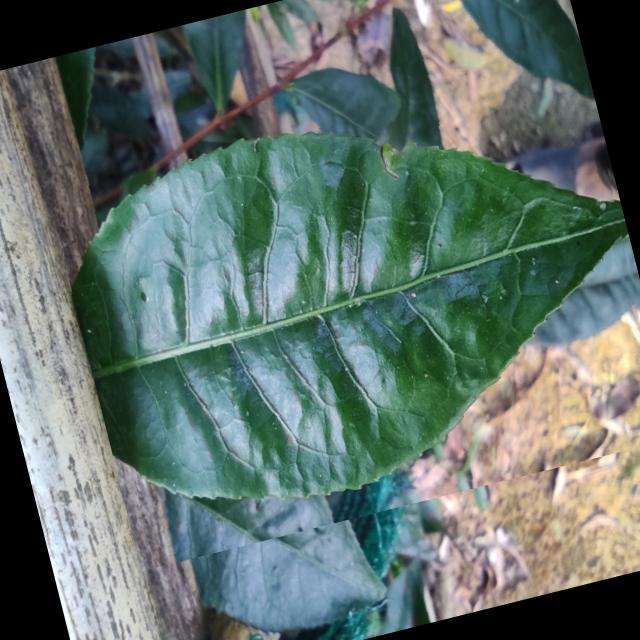Category D(7+ days, Not for Tea): (44, 47, 640, 570)
